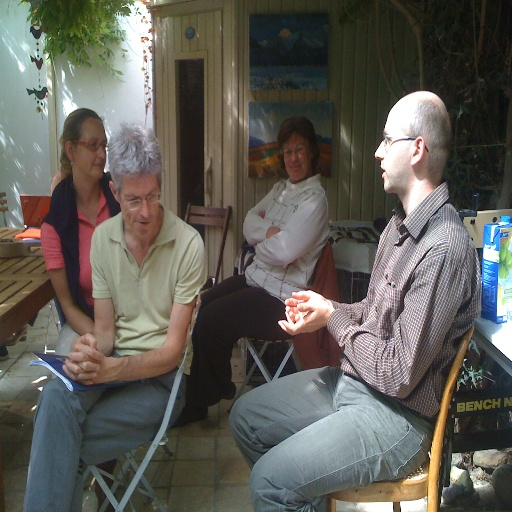hand: (59, 338, 111, 384), (67, 329, 99, 386), (284, 288, 330, 324), (254, 208, 268, 249), (265, 225, 279, 240)
